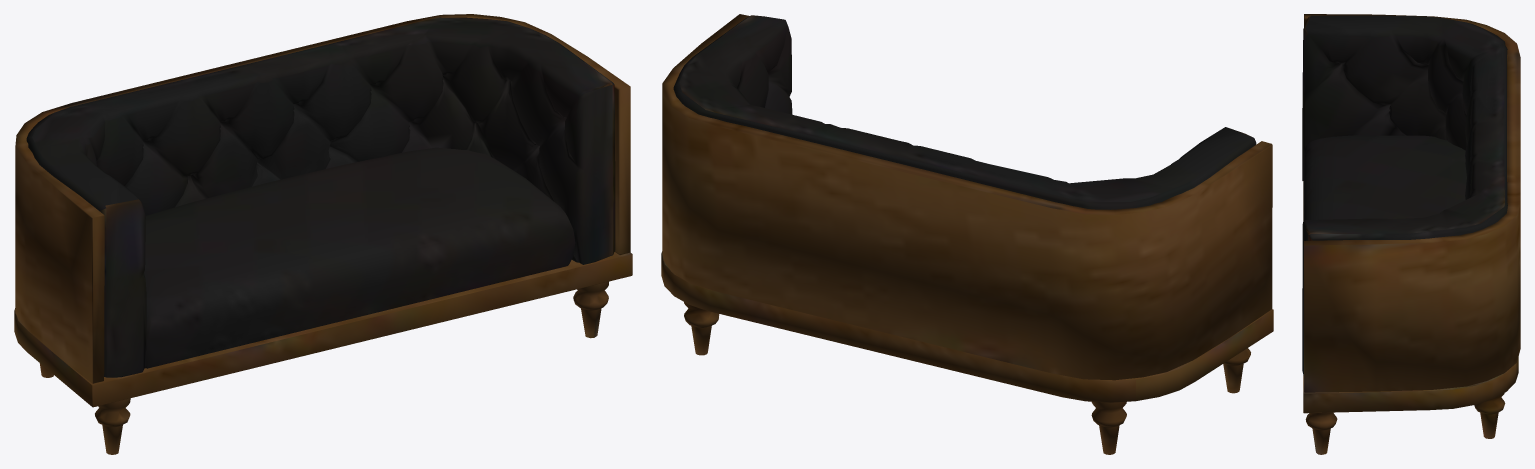
The model's file is chesterfield-sofa.gltf.
The picture shows the model from 3 angles, left to right: view 1: azimuth 30°, elevation 25°; view 2: azimuth 150°, elevation 25°; view 3: azimuth 270°, elevation 25°; orthographic projection. The views are drawn at different scales.
Parts seen in each view (by area): view 1: Sketchfab_model; view 2: Sketchfab_model; view 3: Sketchfab_model.
Boxes of the visible parts, x1,y1,x2,y2 form: Sketchfab_model: [14, 14, 632, 454]; Sketchfab_model: [661, 14, 1273, 454]; Sketchfab_model: [1302, 14, 1520, 454].
Bounding box in the file's own units: 1.66 × 0.7497 × 0.656.
1 material, 1 textured.
